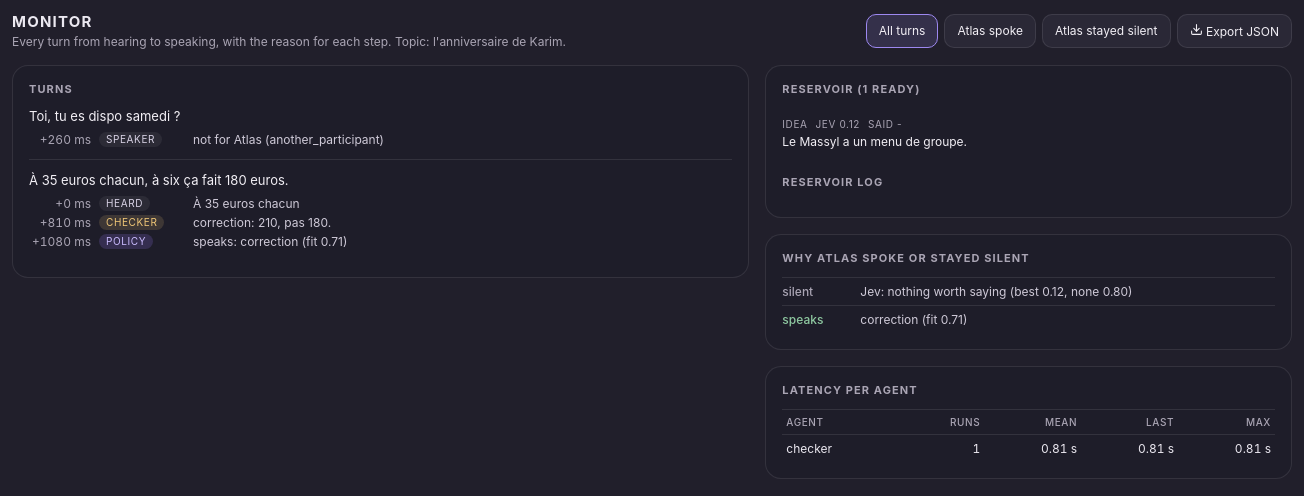
Test case: MonitorView › filters the turns where Atlas stayed silent
Click the button "Atlas stayed silent" at [1106, 30], box [1042,14,1171,48]
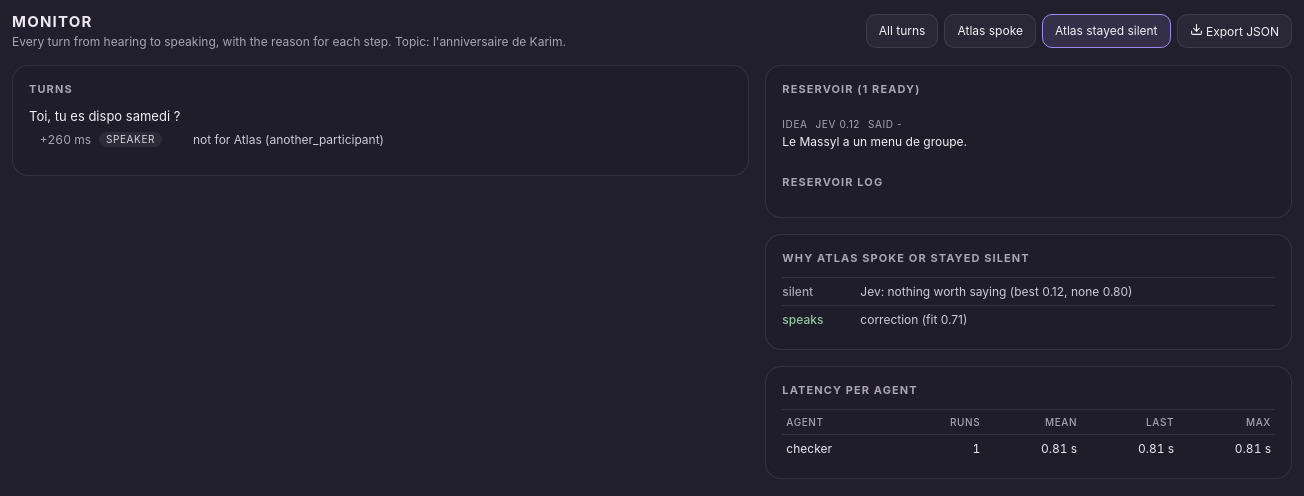
Expected: the text "Toi, tu es dispo samedi ?" is shown, [29,108,180,124]
Expected: the text "À 35 euros chacun, à six ça fait 180 euros." is gone
